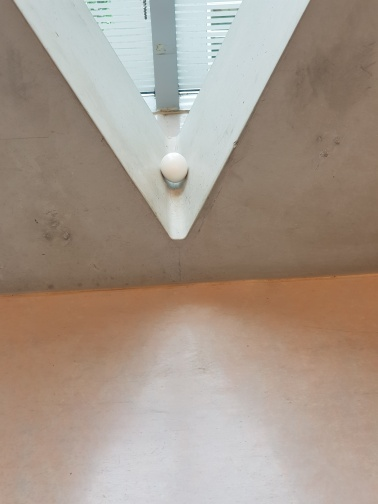egg: (159, 150, 189, 184)
